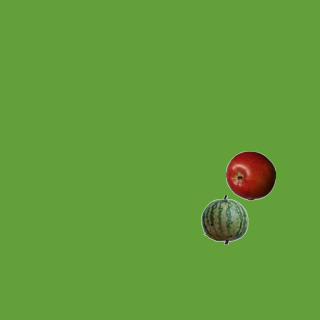Apple Braeburn: (225, 150, 275, 200)
Watermelon: (199, 194, 249, 244)
